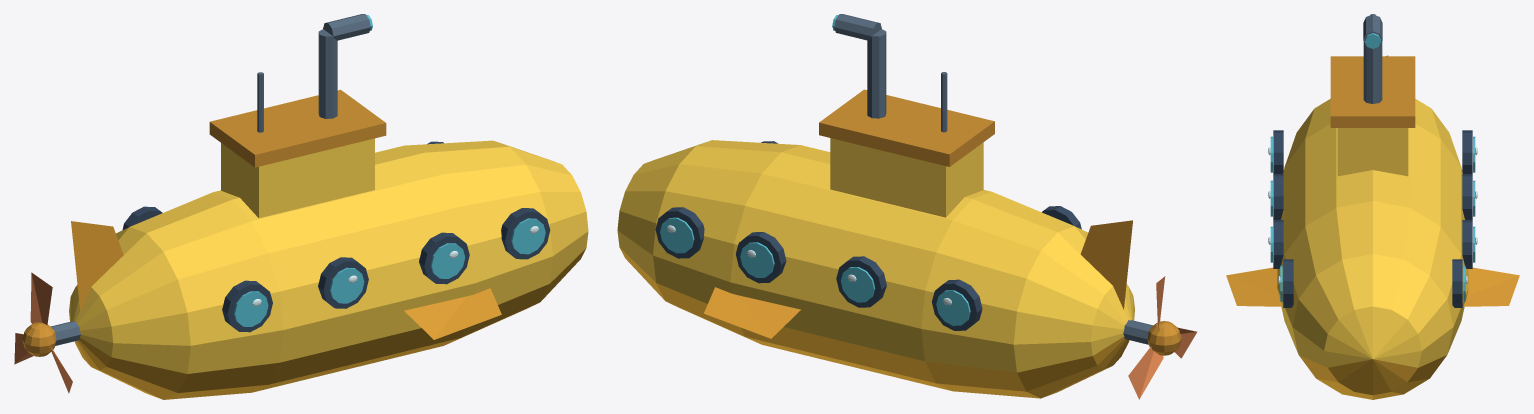
Rendered from boat-submarine.glb.
The picture shows the model from 3 angles, left to right: view 1: azimuth 30°, elevation 25°; view 2: azimuth 150°, elevation 25°; view 3: azimuth 270°, elevation 25°; orthographic projection. The views are drawn at different scales.
Visible parts, largest first — view 1: hull, belly, trim, tower, rudder, porthole_frame, porthole_glass, periscope, propeller; view 2: hull, belly, trim, tower, rudder, porthole_frame, porthole_glass, periscope, propeller; view 3: hull, trim, porthole_frame, belly, rudder, tower, periscope, porthole_glass.
Boxes of the visible parts, x1,y1,x2,y2 form: hull: (69, 140, 588, 373); belly: (74, 249, 585, 399); trim: (22, 89, 386, 356); tower: (221, 138, 374, 218); rudder: (71, 221, 501, 339); porthole_frame: (122, 141, 550, 332); porthole_glass: (234, 15, 545, 326); periscope: (50, 14, 370, 345); propeller: (14, 272, 72, 393); hull: (617, 140, 1134, 372); belly: (619, 247, 1129, 398); trim: (819, 89, 1181, 355); tower: (830, 138, 983, 217); rudder: (704, 220, 1132, 338); porthole_frame: (655, 141, 1081, 330); porthole_glass: (660, 15, 970, 325); periscope: (834, 14, 1153, 344); propeller: (1128, 276, 1197, 399); hull: (1277, 99, 1468, 367); trim: (1330, 56, 1415, 127); porthole_frame: (1273, 130, 1472, 307); belly: (1299, 355, 1446, 399); rudder: (1226, 267, 1519, 306); tower: (1337, 128, 1408, 176); periscope: (1363, 14, 1382, 103); porthole_glass: (1270, 33, 1475, 301).
Size of the model in its own units: 5.51 by 3.21 by 2.7.
